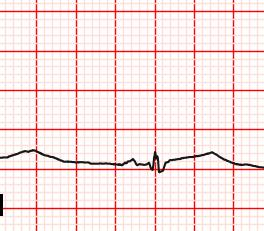Poor R Progression: (149, 147, 162, 175)
